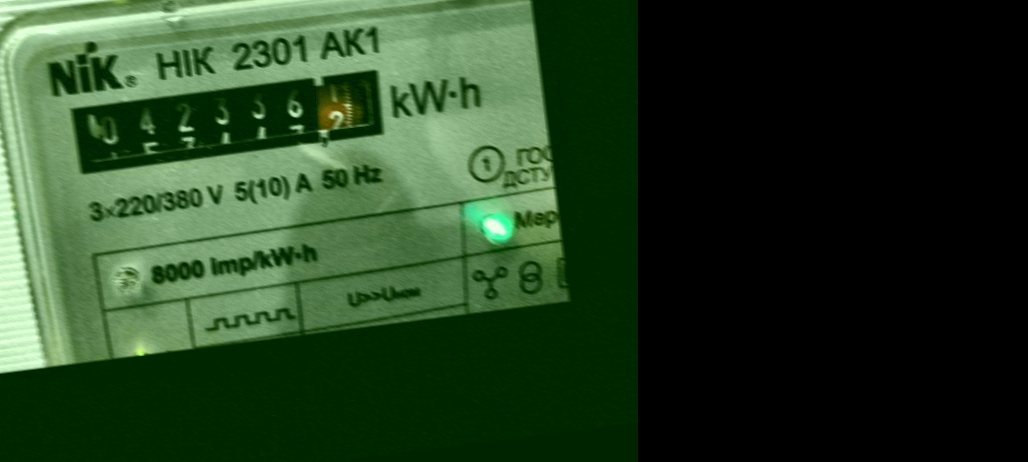0: (96, 113, 119, 148)
1: (324, 79, 339, 106)
2: (171, 99, 196, 135), (325, 109, 344, 132)
3: (208, 94, 230, 128), (246, 89, 267, 123)
4: (135, 104, 156, 138)
6: (281, 86, 306, 122)
screen: (56, 55, 399, 187)
